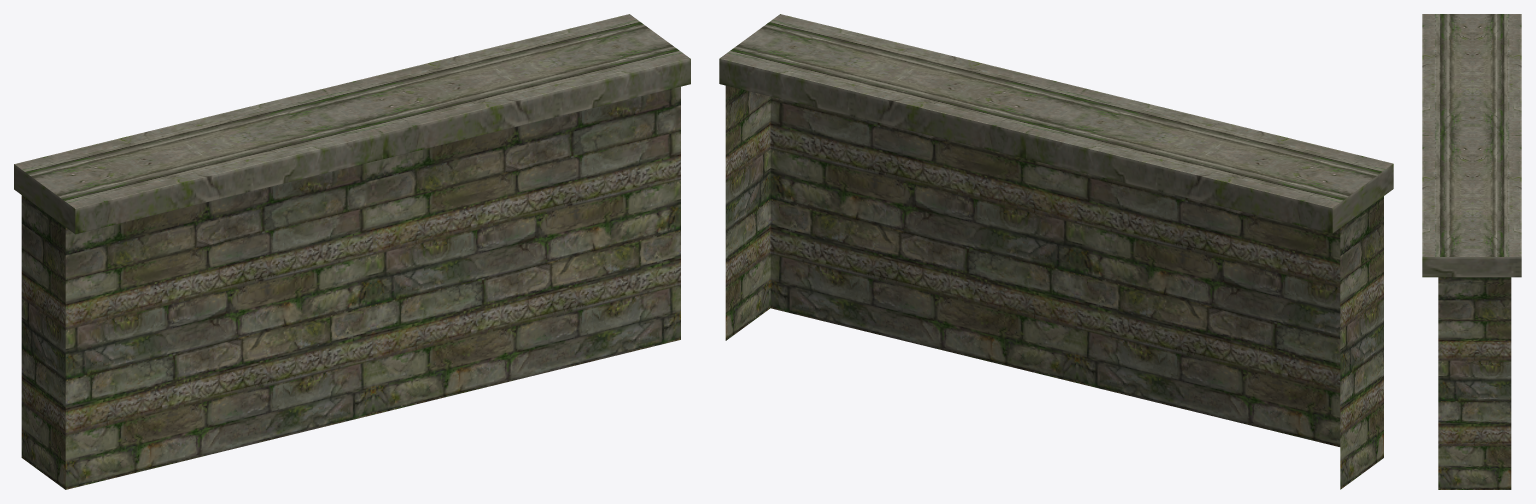
Rendered from baobian_jiangxia_40.FBX.
3 renders of one model, left to right at view 1: azimuth 30°, elevation 25°; view 2: azimuth 150°, elevation 25°; view 3: azimuth 270°, elevation 25°, orthographic. The views are drawn at different scales.
Visible parts, largest first — view 1: baobian_jiangxia_40; view 2: baobian_jiangxia_40; view 3: baobian_jiangxia_40.
Boxes of the visible parts, left/top/right/bottom form: baobian_jiangxia_40: left=14, top=14, right=690, bottom=489; baobian_jiangxia_40: left=719, top=14, right=1393, bottom=489; baobian_jiangxia_40: left=1422, top=14, right=1521, bottom=489.
Size of what is drawn, in the model's own units: 1124 by 503 by 194.
